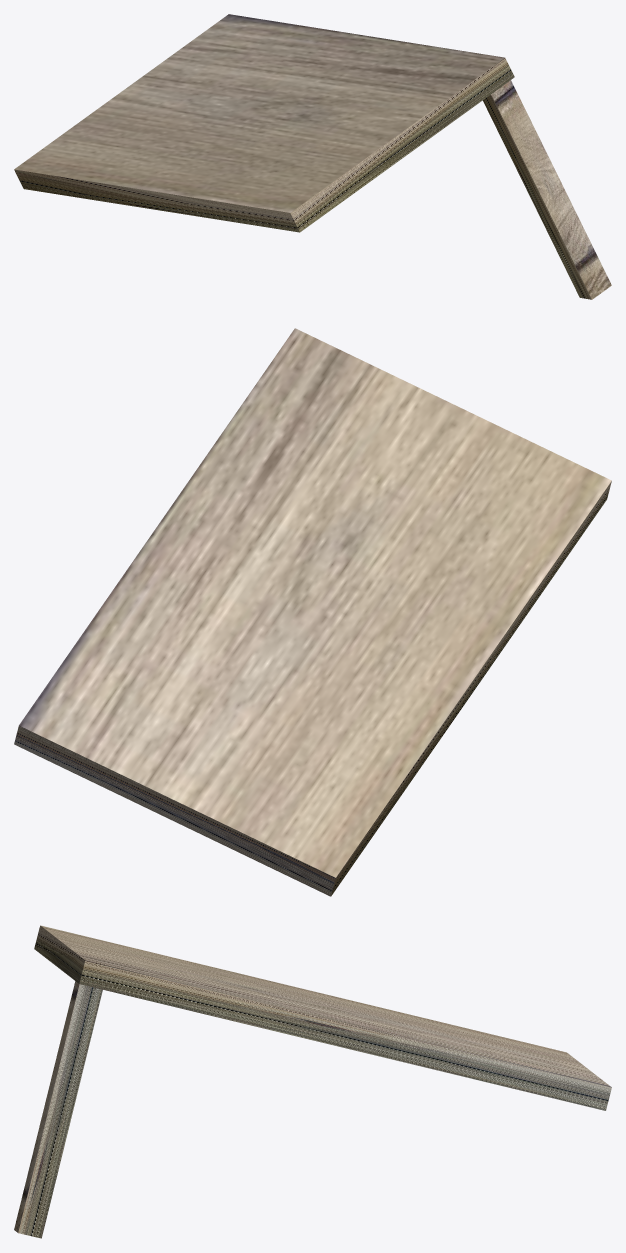
Rendered from desk texture 3.fbx.
3 renders of one model, top to bottom at view 1: azimuth 30°, elevation 25°; view 2: azimuth 150°, elevation 25°; view 3: azimuth 270°, elevation 25°, orthographic. The views are drawn at different scales.
Visible parts, largest first — view 1: polySurface44; view 2: polySurface44; view 3: polySurface44.
Part boxes in pixels (x1,y1,x2,y2): polySurface44: [14, 14, 611, 299]; polySurface44: [14, 328, 611, 896]; polySurface44: [14, 925, 611, 1238].
Bounding box in the file's own units: 14.49 × 9.7 × 21.17.
